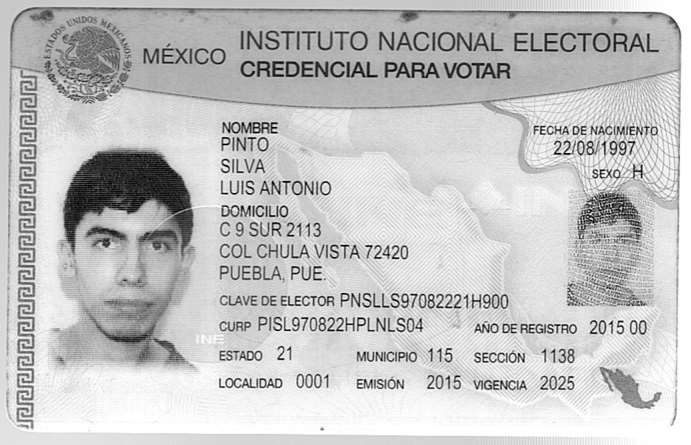ESCUDO: (44, 16, 133, 104)
MAPA: (599, 367, 661, 409)
PALABRA: (513, 32, 659, 53)
